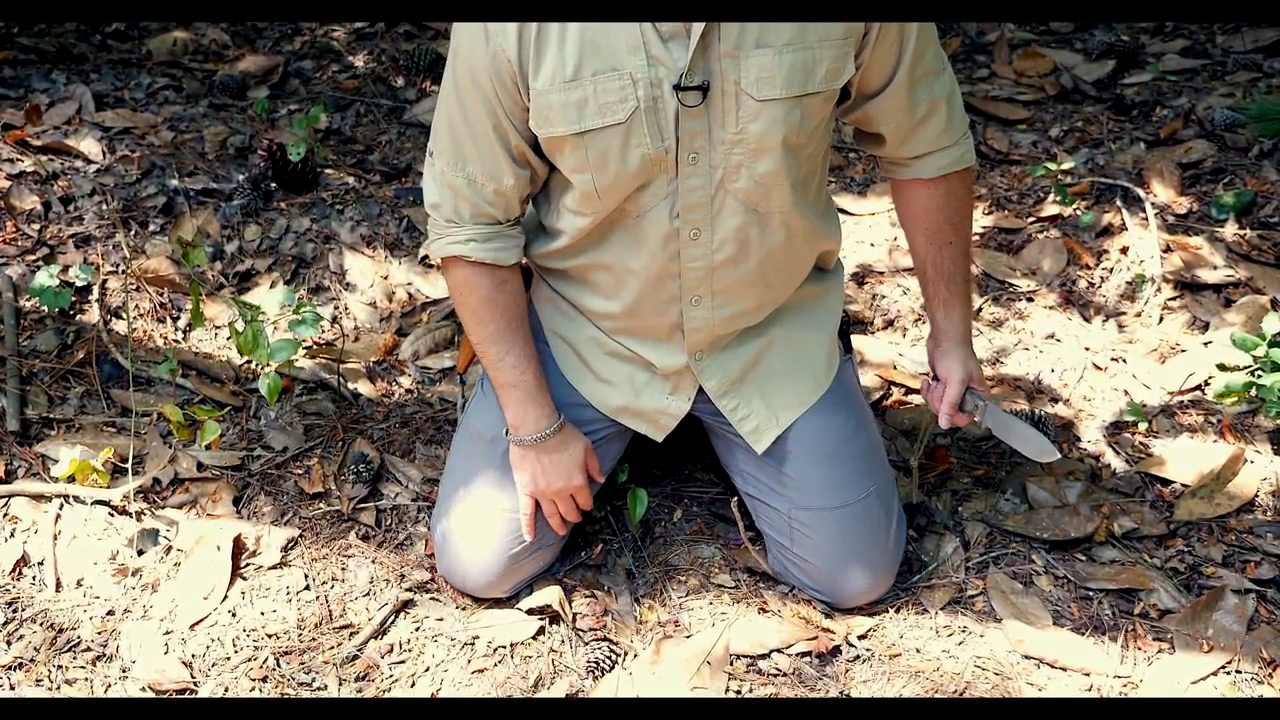knife: (917, 369, 1082, 481)
